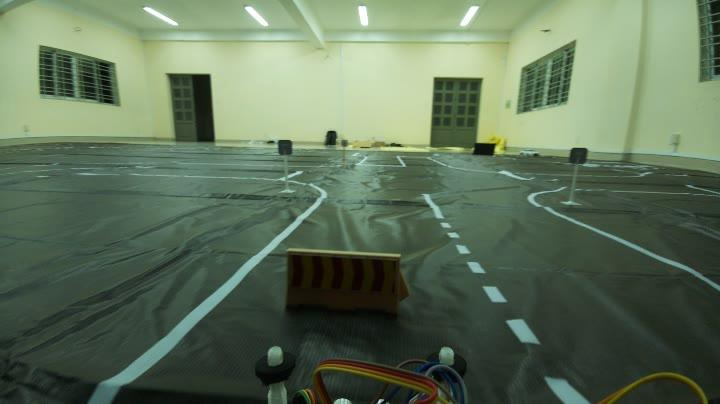roadblock: (283, 243, 416, 320)
